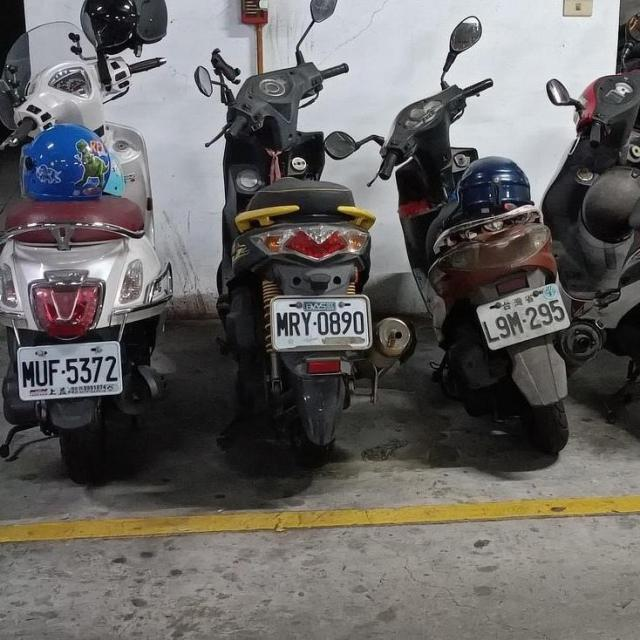W: (470, 278, 574, 350), (15, 338, 125, 401), (270, 292, 373, 352)
